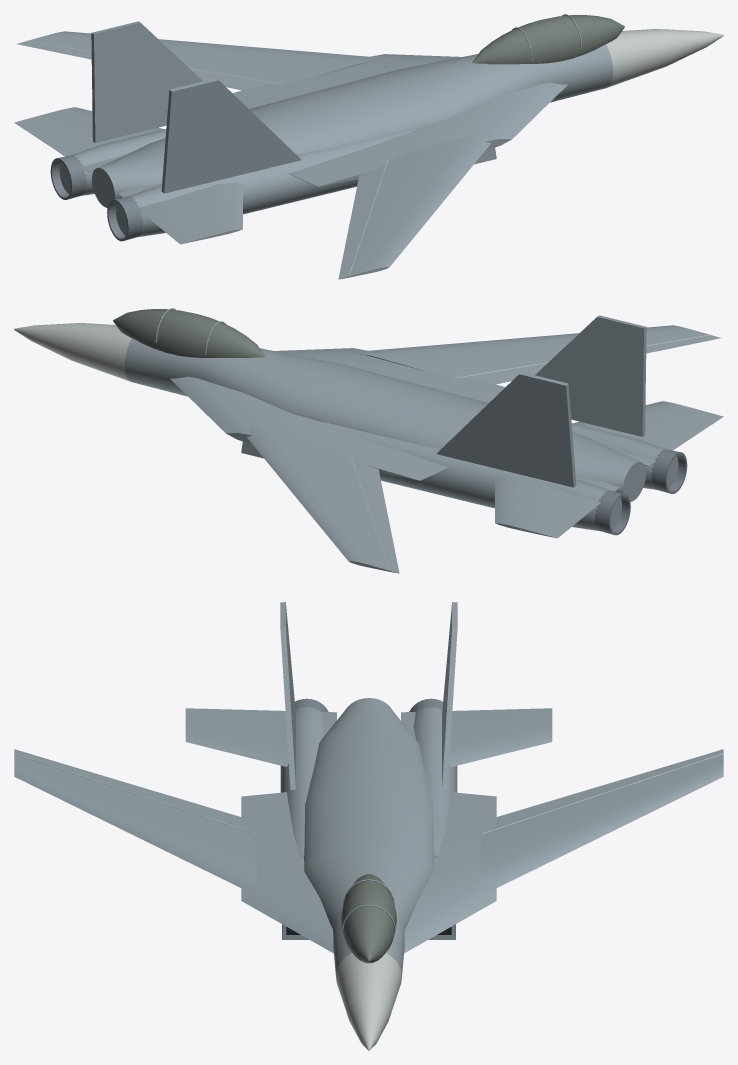
3 views of the same model, one above another, from view 1: azimuth 30°, elevation 25°; view 2: azimuth 150°, elevation 25°; view 3: azimuth 270°, elevation 25° (orthographic). The views are drawn at different scales.
Parts seen in each view (by area): view 1: airframe, canopy_gold, array_face, titanium; view 2: airframe, canopy_gold, array_face, titanium; view 3: airframe, array_face, canopy_gold.
Boxes of the visible parts, left/top/right/bottom form: airframe: left=14, top=14, right=613, bottom=279; canopy_gold: left=472, top=15, right=624, bottom=64; array_face: left=27, top=29, right=723, bottom=276; titanium: left=50, top=155, right=143, bottom=241; airframe: left=124, top=308, right=723, bottom=573; canopy_gold: left=113, top=309, right=265, bottom=358; array_face: left=14, top=323, right=710, bottom=570; titanium: left=594, top=449, right=687, bottom=535; airframe: left=14, top=602, right=723, bottom=975; array_face: left=14, top=753, right=723, bottom=1050; canopy_gold: left=341, top=874, right=396, bottom=963.
Size of the model in its own units: 10 by 2.25 by 8.8.
